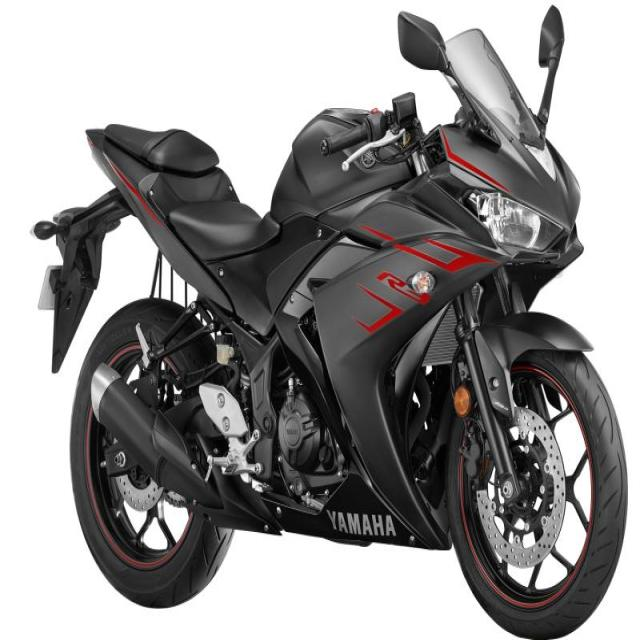motorcycle: (34, 7, 628, 636)
